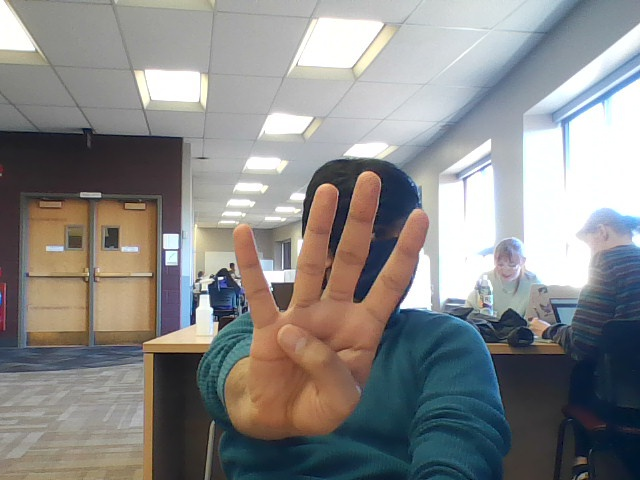four: (216, 167, 433, 445)
